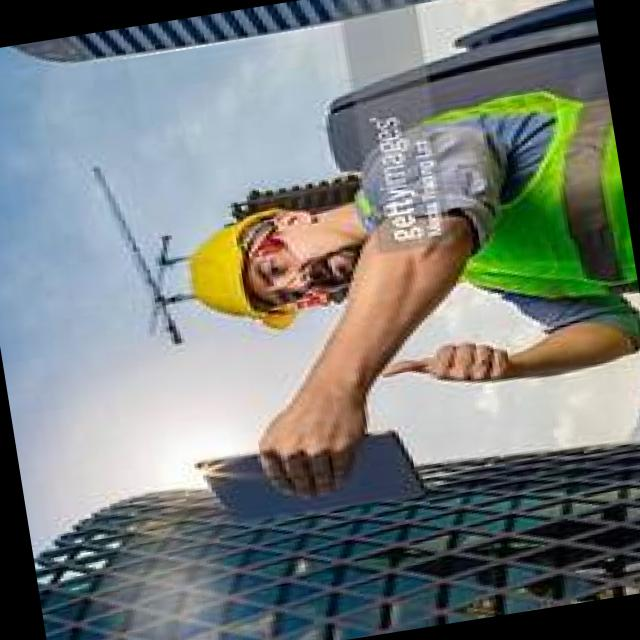not-gloved: (244, 366, 376, 494), (370, 330, 538, 402)
